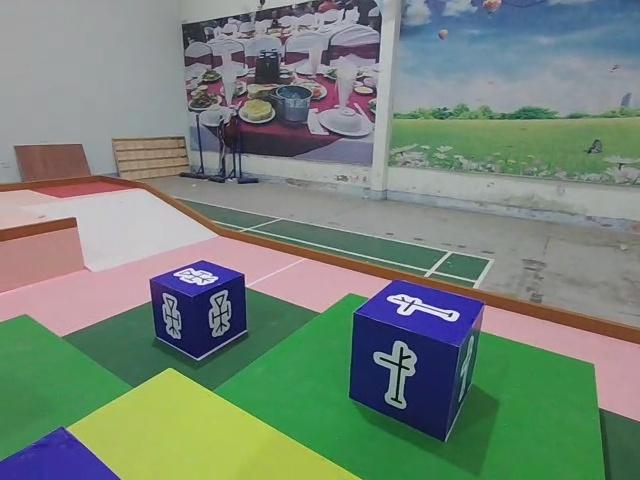R2 Real Blue: (349, 280, 483, 442), (149, 260, 246, 361)
